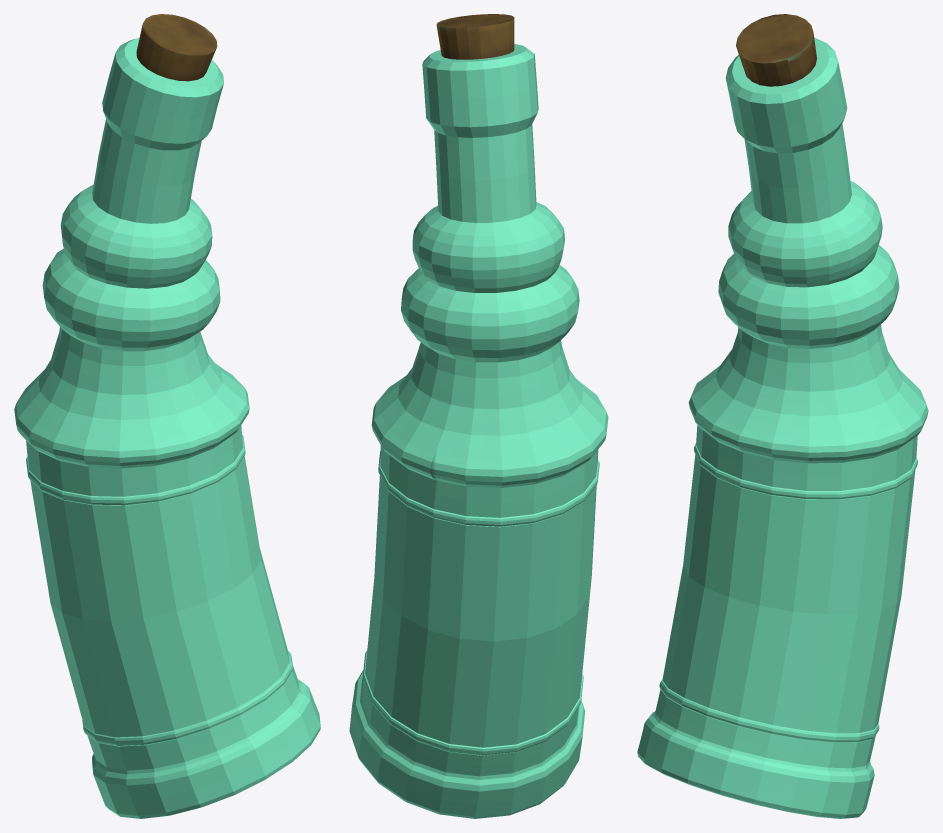
The model's file is bend_medium_1.obj.
The picture shows the model from 3 angles, left to right: view 1: azimuth 30°, elevation 25°; view 2: azimuth 150°, elevation 25°; view 3: azimuth 270°, elevation 25°; orthographic projection.
Visible parts, largest first — view 1: model; view 2: model; view 3: model.
Part boxes in pixels (x1,y1,x2,y2): model: [14, 14, 320, 818]; model: [349, 14, 608, 818]; model: [637, 14, 928, 818].
Size of the model in its own units: 0.089 by 0.2609 by 0.0878.
1 material, 1 textured.
